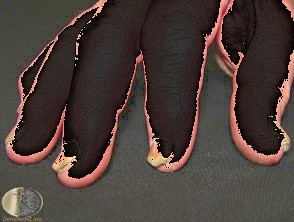Nail_psoriasis: (46, 130, 92, 186), (255, 104, 294, 157), (0, 108, 40, 155), (144, 131, 181, 174), (13, 96, 28, 116)
